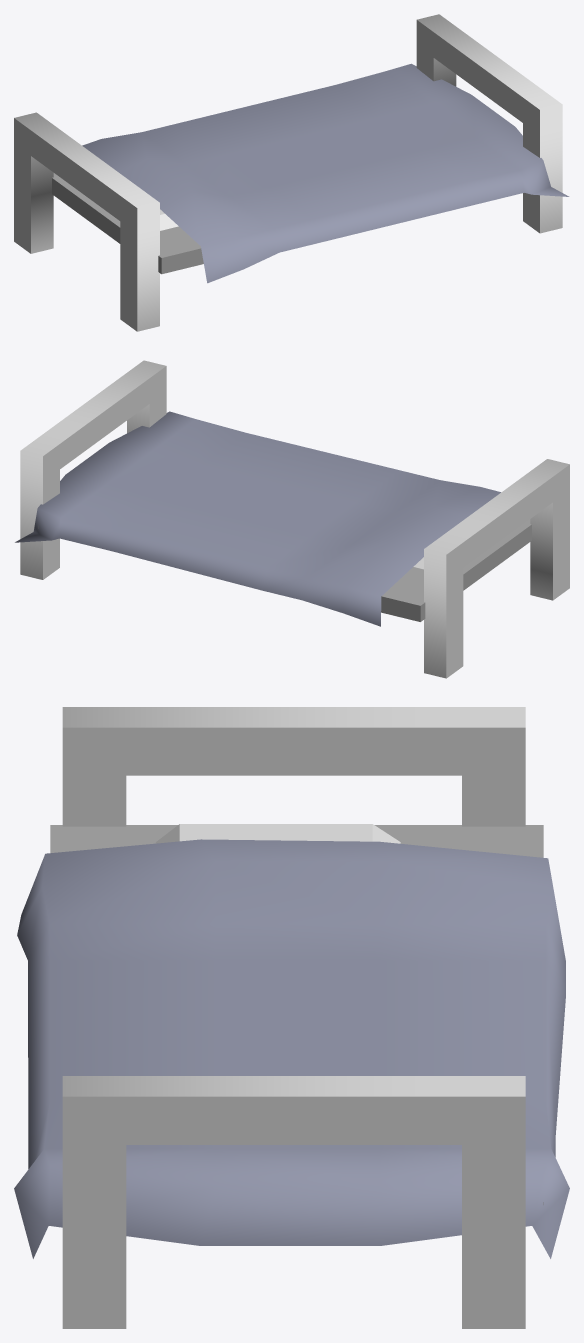
The model's file is singlebed.fbx.
3 renders of one model, top to bottom at view 1: azimuth 30°, elevation 25°; view 2: azimuth 150°, elevation 25°; view 3: azimuth 270°, elevation 25°, orthographic. The views are drawn at different scales.
Parts seen in each view (by area): view 1: singlebed; view 2: singlebed; view 3: singlebed.
Boxes of the visible parts, x1,y1,x2,y2 form: singlebed: (14, 14, 569, 331); singlebed: (15, 360, 569, 678); singlebed: (14, 707, 569, 1328).
Bounding box in the file's own units: 1.87 × 0.5191 × 1.13.
